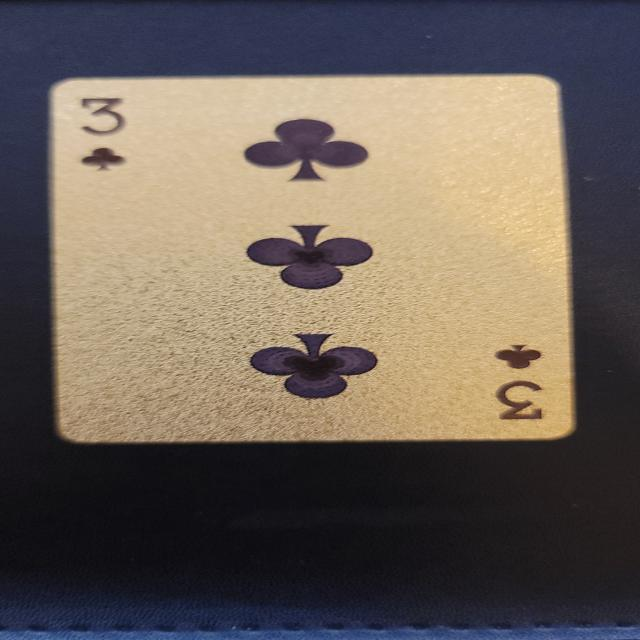3 of clubs: (46, 75, 576, 443)
